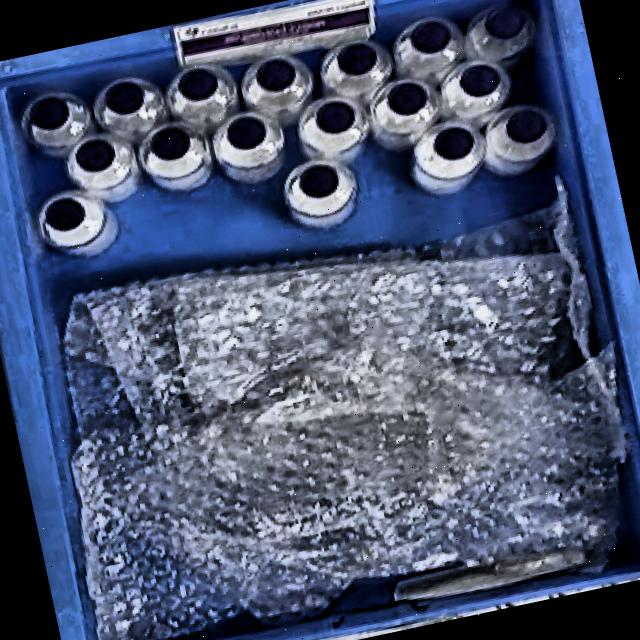vial: (484, 4, 526, 39), (387, 81, 428, 114), (45, 197, 85, 230), (315, 100, 355, 133), (299, 164, 339, 197), (459, 63, 499, 96), (506, 109, 546, 142), (255, 58, 296, 90), (410, 20, 451, 52), (75, 139, 115, 171), (150, 127, 190, 159), (226, 116, 266, 148), (177, 68, 217, 100), (336, 42, 376, 74), (29, 96, 68, 128), (434, 126, 473, 158), (105, 81, 143, 113)
